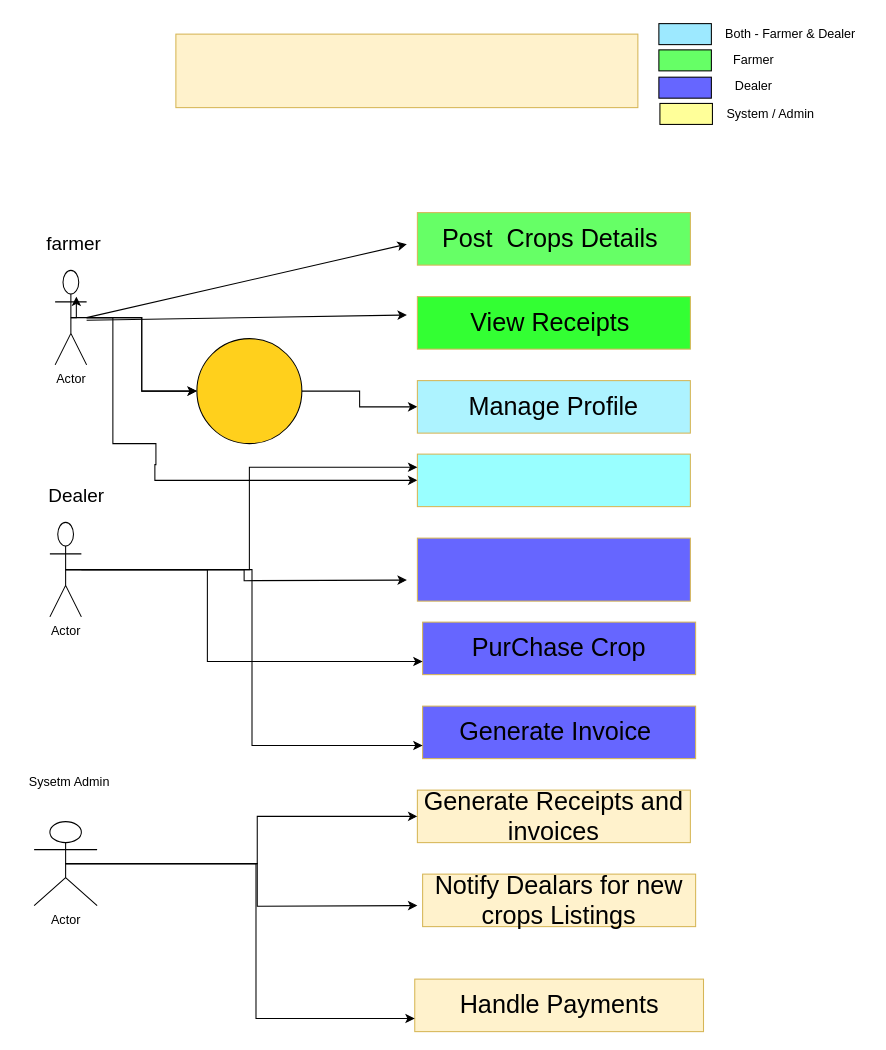
Image size: 886x1050. Some labels were removed from this diagram. The shapes that lost their labels are listed below. From the top down, each one's box as (x1, y1, x2, y2) in pixels, then its label:
(175, 33, 638, 108): E-Farming Crops Deals Use Case Diagram
(196, 338, 302, 444): Signs up
(416, 453, 690, 507): Add Bank Details
(416, 537, 690, 601): Subscribe for Crops/ Cart
